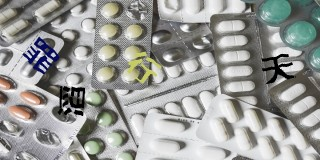天: (260, 53, 295, 85)
滔: (58, 84, 85, 117)
罪: (24, 37, 59, 75)
行: (124, 51, 161, 85)
